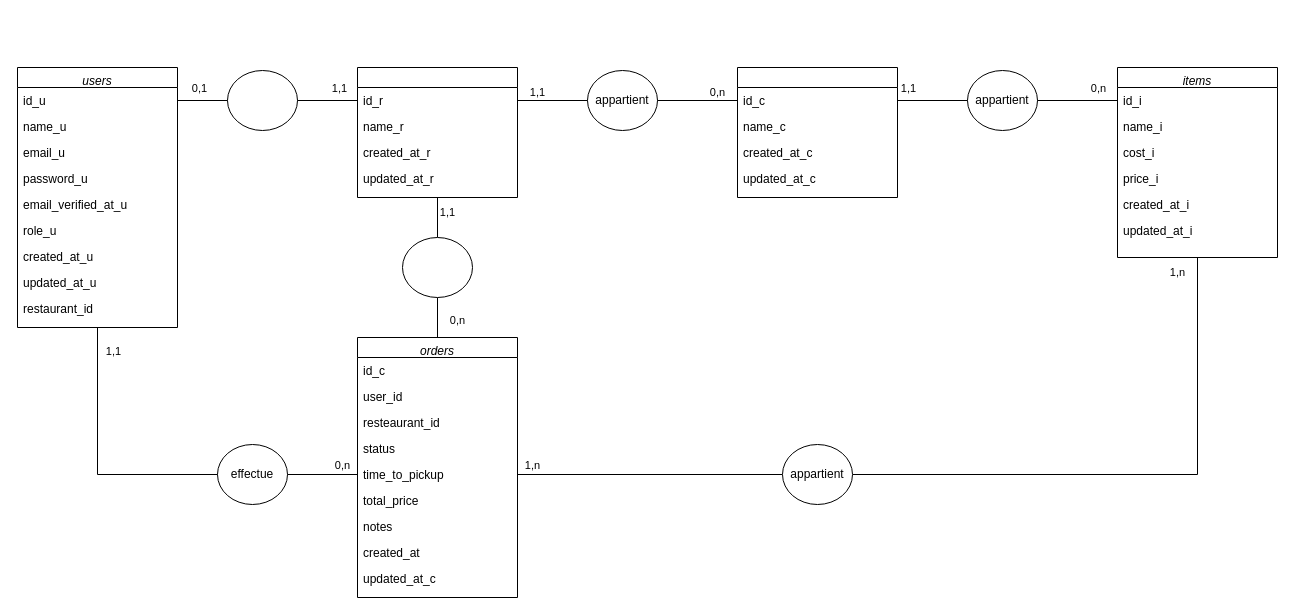
Image size: 1295x615. Some labels were removed from this diagram. Here are the shapes that lost their labels. From the top down, the box of each, then its label:
(226, 70, 298, 130): possède
(356, 66, 518, 198): restaurants
(736, 66, 898, 198): categories
(402, 236, 472, 298): reçoit
